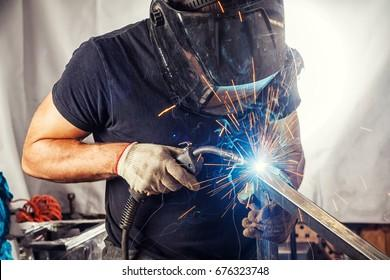gloves: (114, 141, 201, 193), (242, 200, 299, 244)
